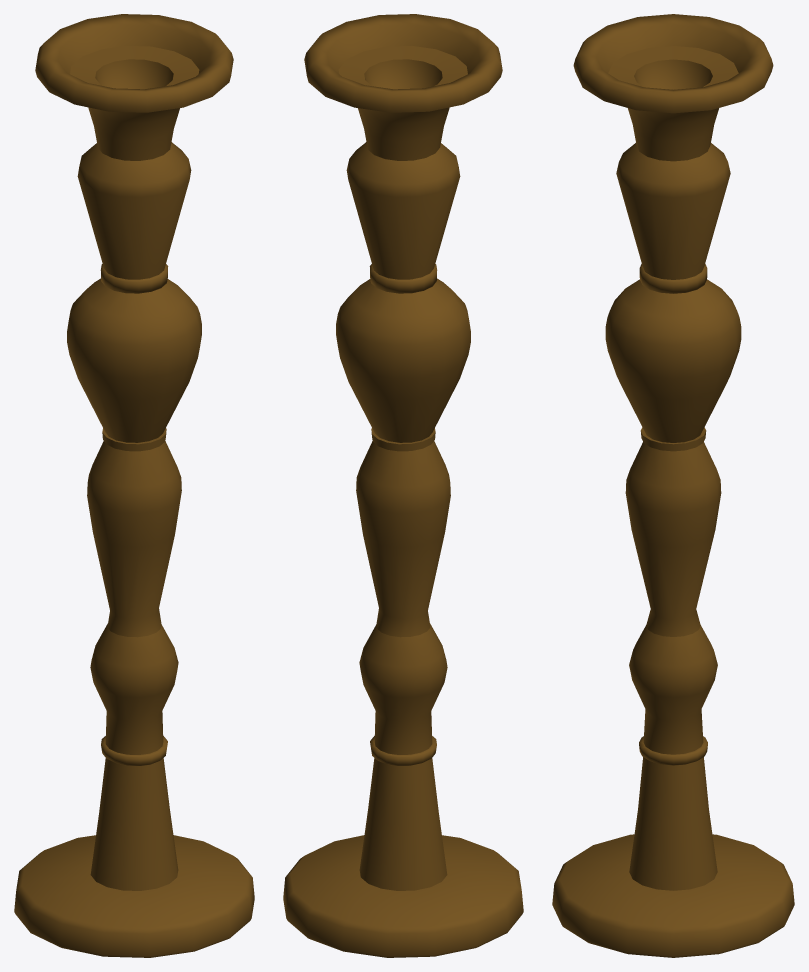
File: Candle_holder_3.fbx
The picture shows the model from 3 angles, left to right: view 1: azimuth 30°, elevation 25°; view 2: azimuth 150°, elevation 25°; view 3: azimuth 270°, elevation 25°; orthographic projection.
Visible parts, largest first — view 1: Candle_holder_3; view 2: Candle_holder_3; view 3: Candle_holder_3.
Boxes of the visible parts, bbox=[...] form: Candle_holder_3: bbox=[14, 14, 254, 957]; Candle_holder_3: bbox=[283, 14, 523, 957]; Candle_holder_3: bbox=[552, 14, 794, 957].
Bounding box in the file's own units: 9 × 34.96 × 9.
